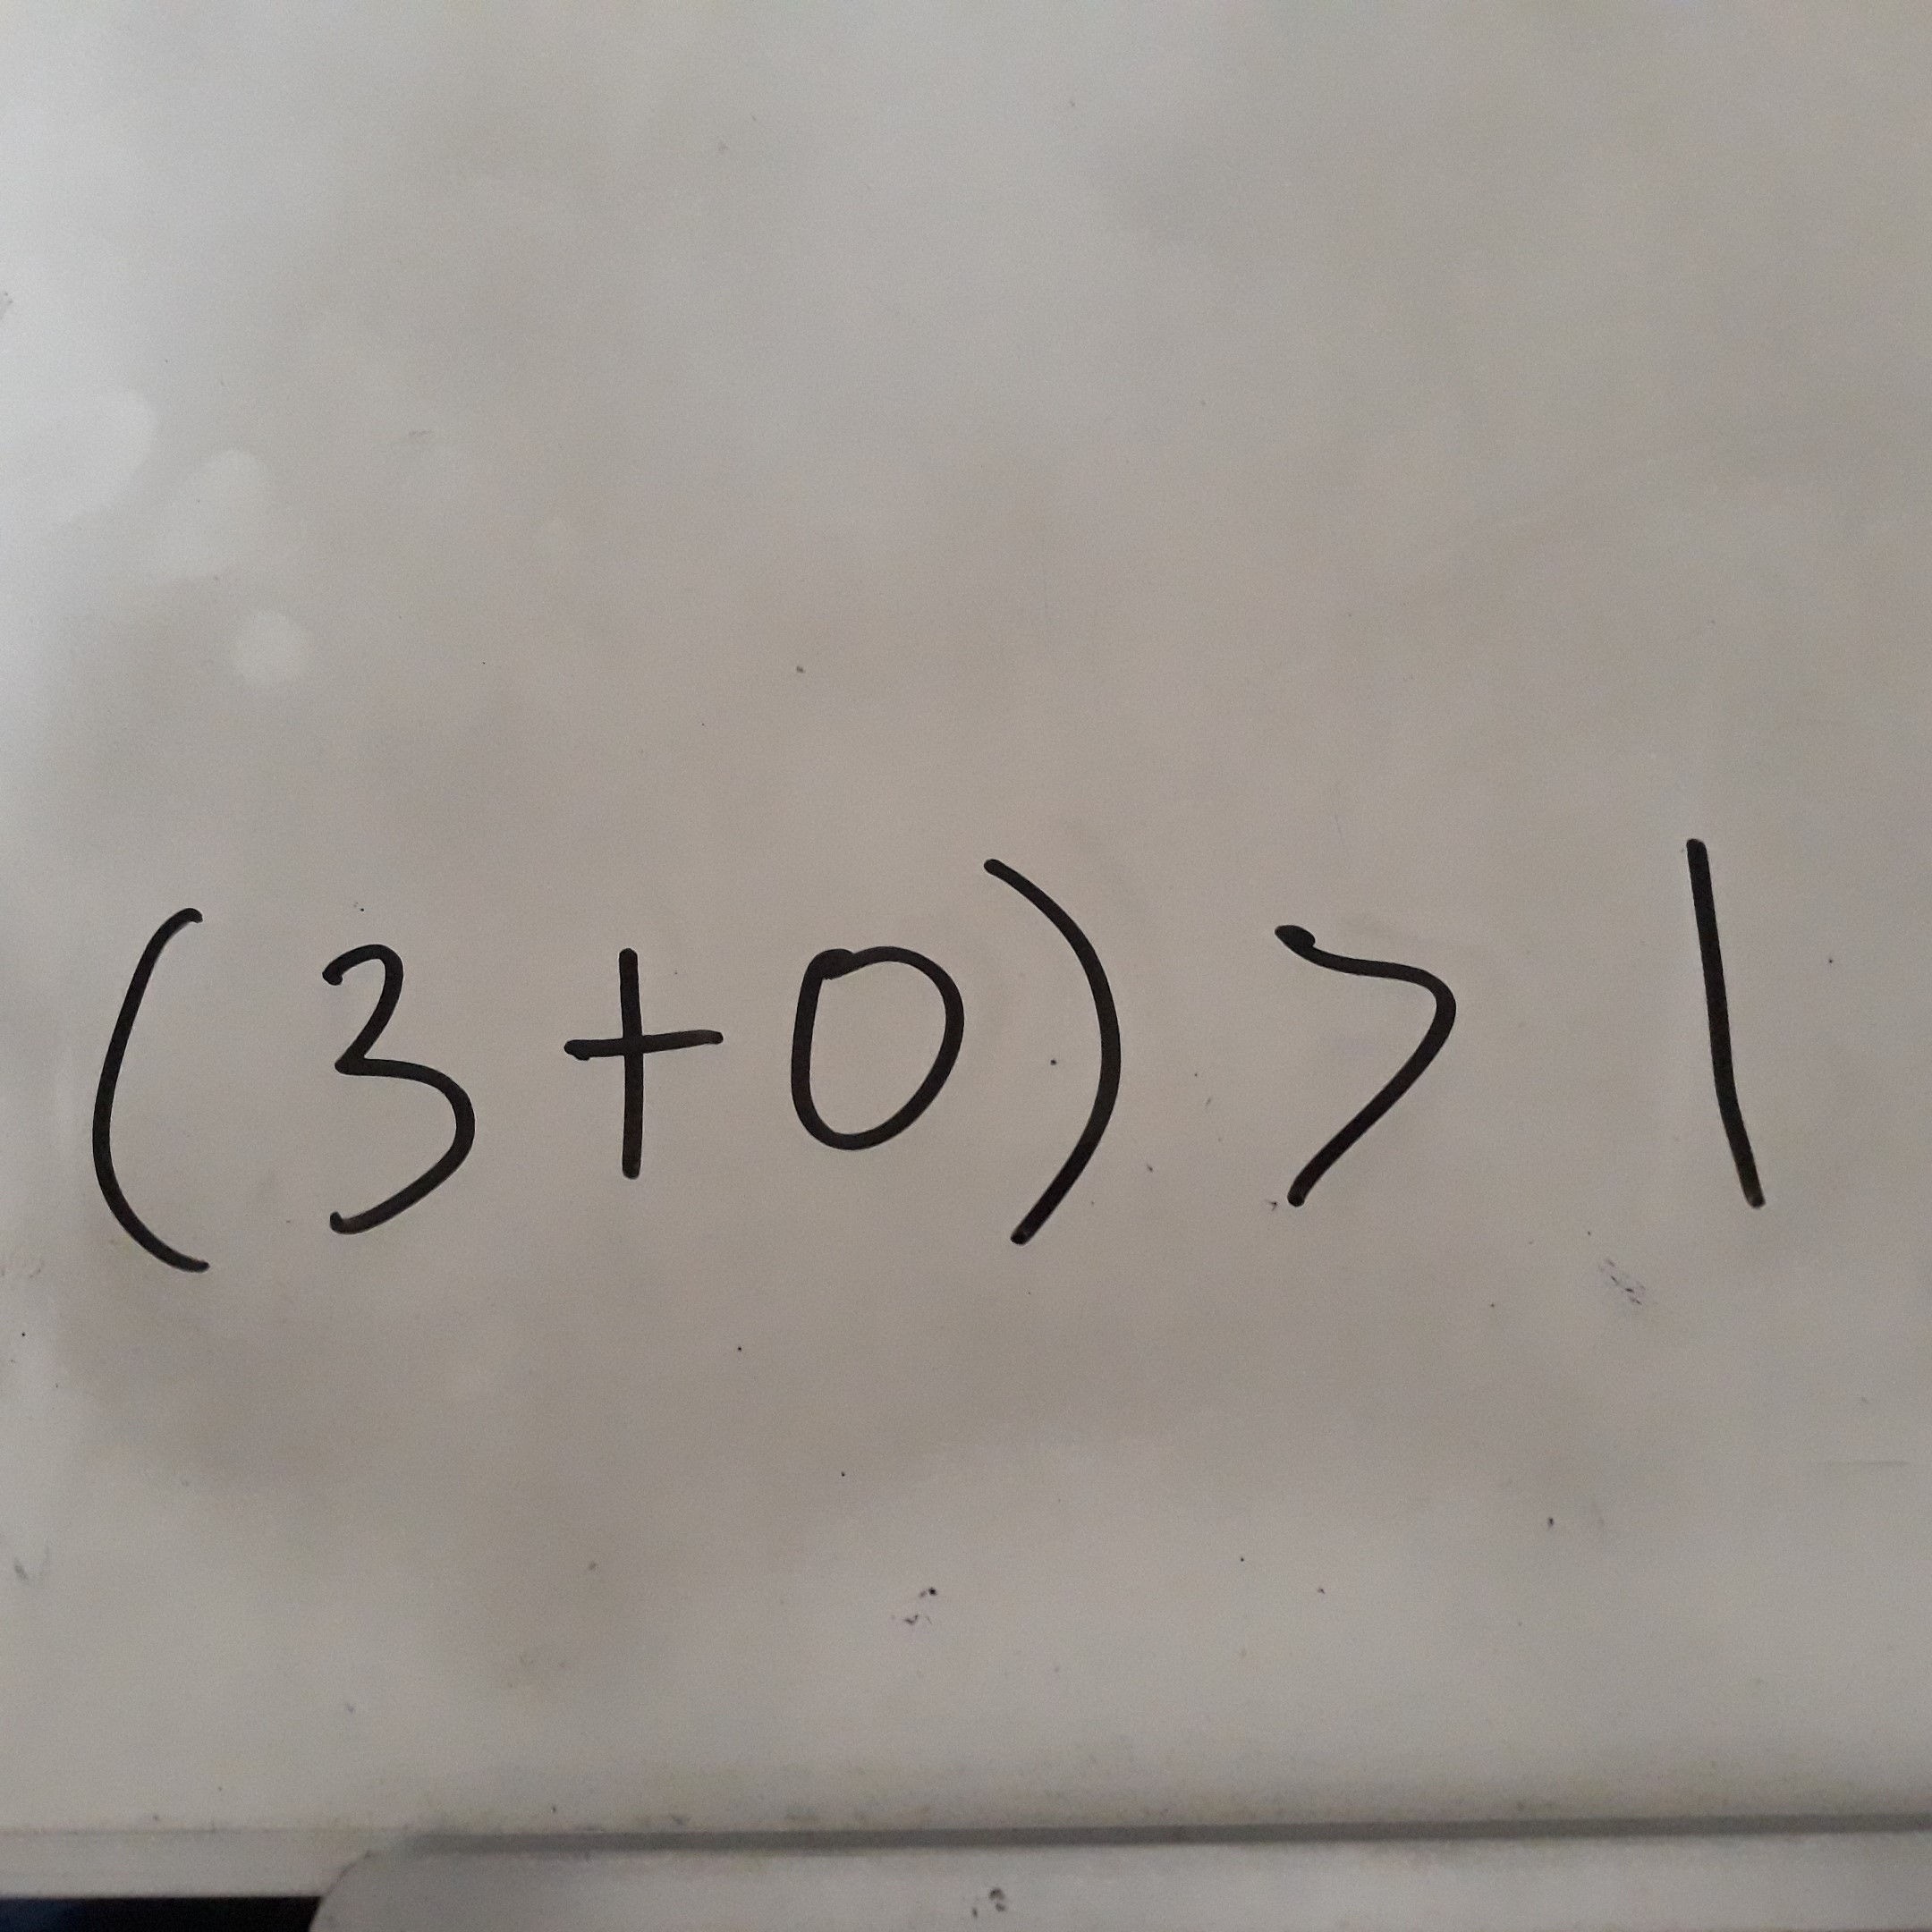closebracket: (976, 816, 1145, 1267)
morethan: (1230, 909, 1470, 1212)
num0: (776, 901, 970, 1182)
num1: (1663, 799, 1799, 1229)
num3: (286, 935, 492, 1246)
openbracket: (77, 880, 239, 1305)
sum: (539, 902, 733, 1184)
